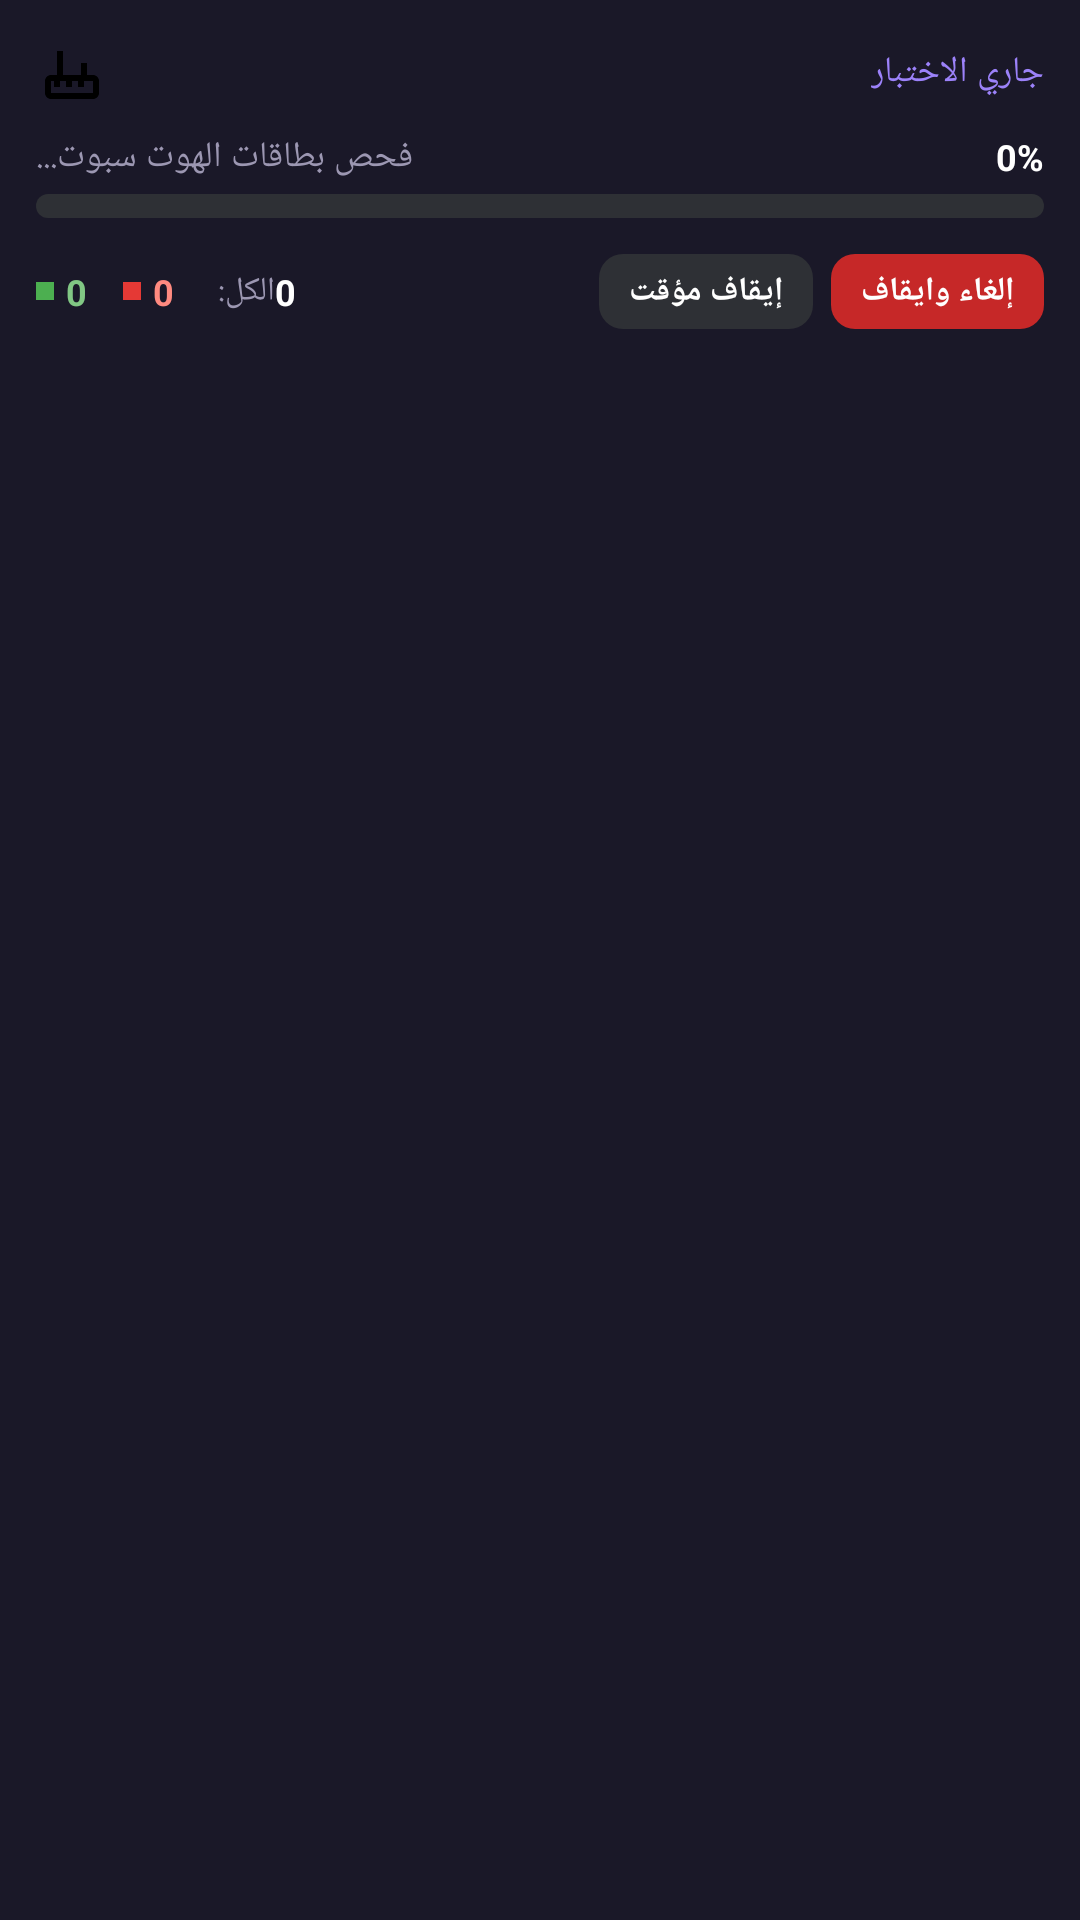

Named icons in this screenshot (1080px×1920px) and their bounding boxes, (x1, y1, x2, y2):
router: (45, 51, 99, 99)
